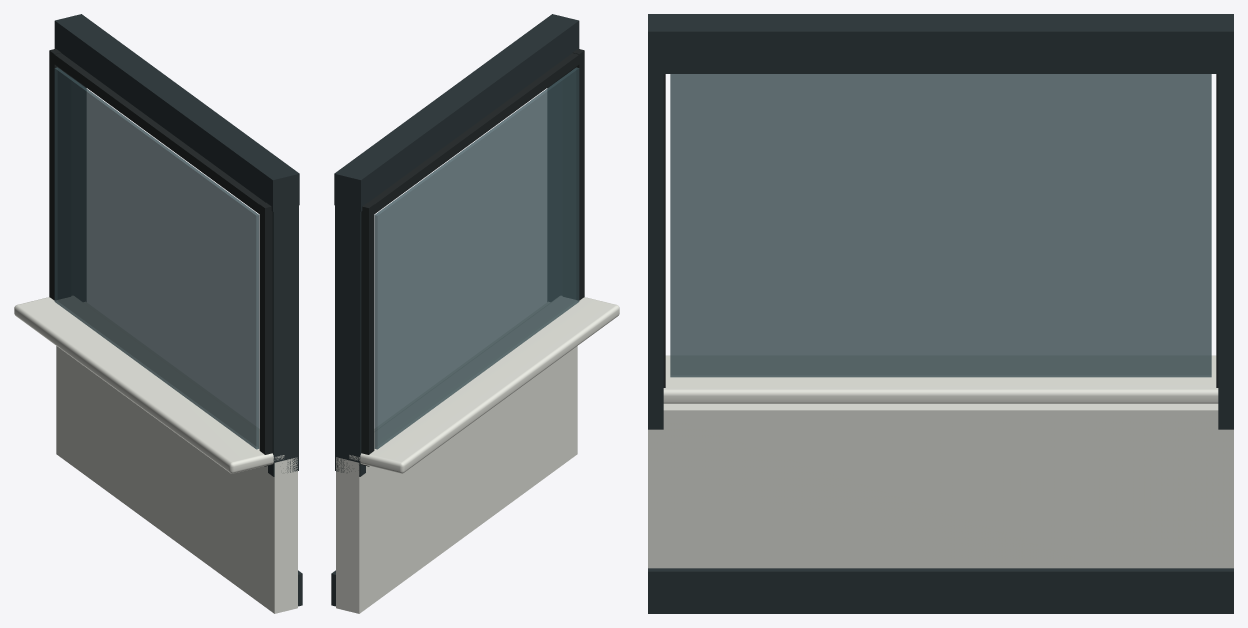
The model's file is ferry_saloon_bay_225cm.glb.
3 renders of one model, left to right at view 1: azimuth 30°, elevation 25°; view 2: azimuth 150°, elevation 25°; view 3: azimuth 270°, elevation 25°, orthographic. The views are drawn at different scales.
Parts seen in each view (by area): view 1: ferry_saloon_bay_225cm__Optical ferry glass, ferry_saloon_bay_225cm__Warm white painted steel, ferry_saloon_bay_225cm__Fixed_BlackHousing, ferry_saloon_bay_225cm__Fixed_Rubber; view 2: ferry_saloon_bay_225cm__Optical ferry glass, ferry_saloon_bay_225cm__Warm white painted steel, ferry_saloon_bay_225cm__Fixed_BlackHousing, ferry_saloon_bay_225cm__Fixed_Rubber; view 3: ferry_saloon_bay_225cm__Optical ferry glass, ferry_saloon_bay_225cm__Warm white painted steel, ferry_saloon_bay_225cm__Fixed_BlackHousing, ferry_saloon_bay_225cm__Fixed_Rubber.
Boxes of the visible parts, x1,y1,x2,y2 form: ferry_saloon_bay_225cm__Optical ferry glass: (54, 67, 259, 449); ferry_saloon_bay_225cm__Warm white painted steel: (14, 296, 297, 613); ferry_saloon_bay_225cm__Fixed_BlackHousing: (54, 14, 302, 606); ferry_saloon_bay_225cm__Fixed_Rubber: (49, 48, 272, 466); ferry_saloon_bay_225cm__Optical ferry glass: (374, 67, 579, 449); ferry_saloon_bay_225cm__Warm white painted steel: (336, 296, 619, 613); ferry_saloon_bay_225cm__Fixed_BlackHousing: (331, 14, 579, 606); ferry_saloon_bay_225cm__Fixed_Rubber: (361, 48, 584, 466); ferry_saloon_bay_225cm__Optical ferry glass: (670, 74, 1211, 377); ferry_saloon_bay_225cm__Warm white painted steel: (648, 355, 1233, 568); ferry_saloon_bay_225cm__Fixed_BlackHousing: (648, 14, 1233, 613); ferry_saloon_bay_225cm__Fixed_Rubber: (663, 74, 1218, 387).
Bounding box in the file's own units: 0.428 × 2.47 × 2.25.
